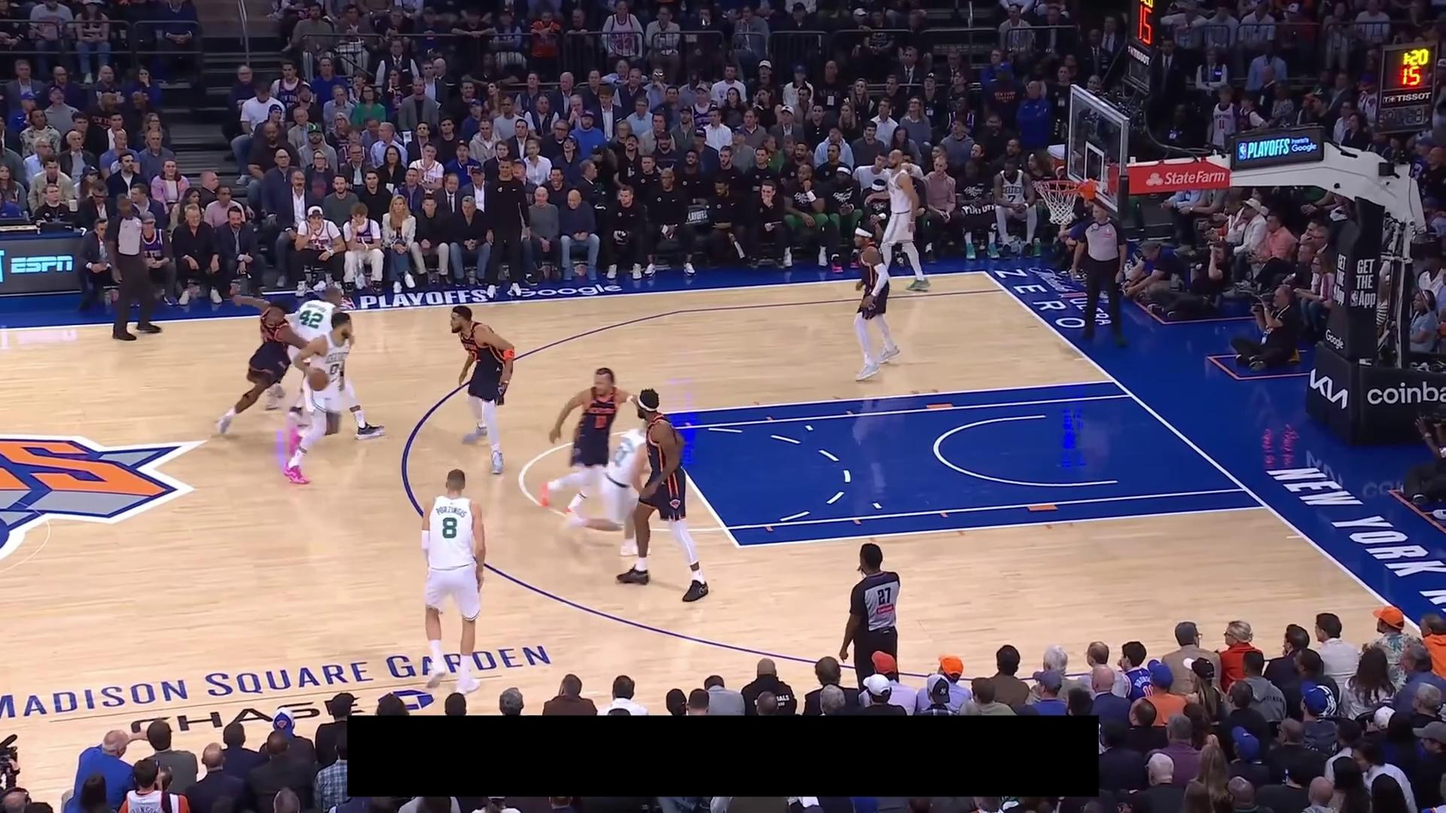ball: (307, 369, 329, 390)
number: (299, 309, 323, 329), (441, 516, 459, 540), (328, 362, 343, 376)
player: (615, 388, 711, 604), (537, 365, 640, 528), (419, 468, 488, 697), (288, 283, 385, 441), (214, 293, 310, 437), (564, 420, 651, 557), (449, 303, 517, 477), (865, 148, 932, 293), (849, 222, 902, 382)
player-in-possession: (282, 312, 356, 485)
referee: (839, 540, 901, 692), (103, 194, 163, 341), (1070, 203, 1129, 348)
rim: (1036, 179, 1081, 193)
